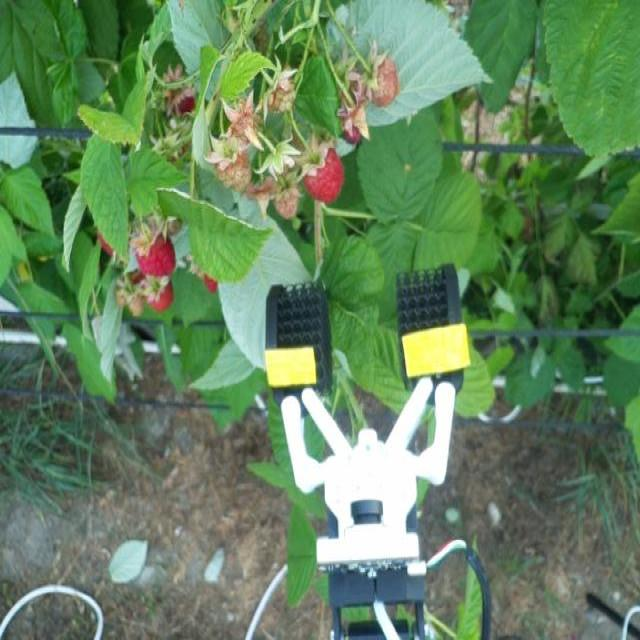Riped berries: (301, 137, 350, 205), (334, 90, 381, 144), (133, 224, 181, 268), (143, 275, 180, 313), (174, 81, 205, 117)
